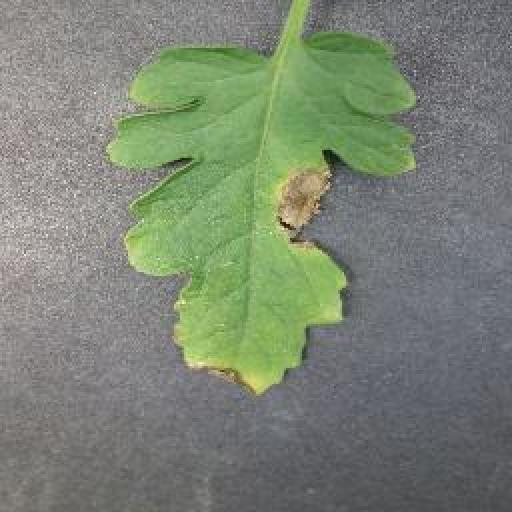Late Blight: (108, 26, 417, 402)
